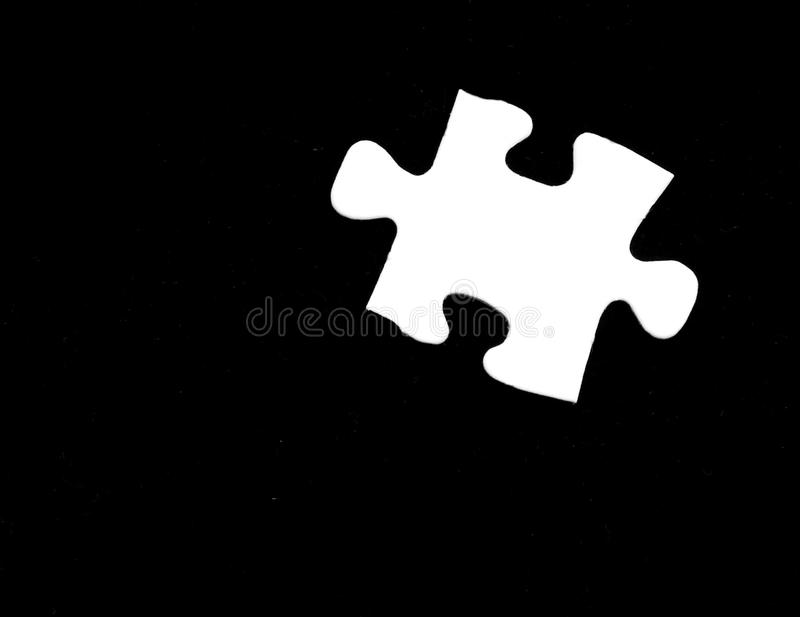puzzle piece: (302, 53, 720, 430)
